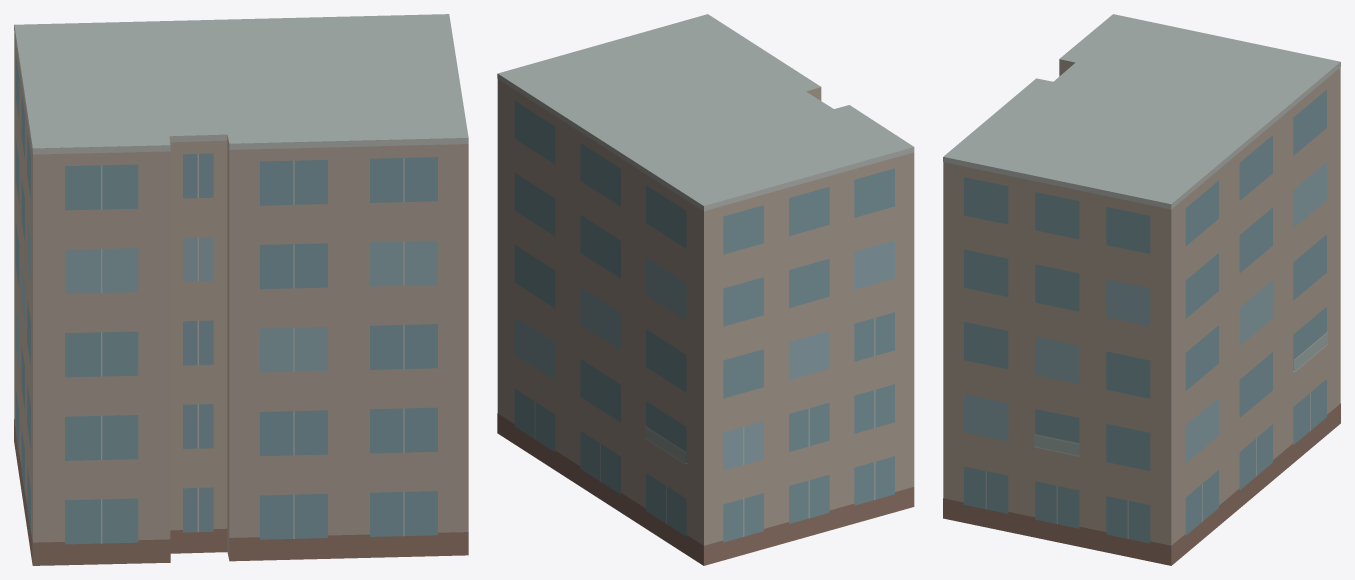
Rendered from survey-upis-33007750.glb.
3 renders of one model, left to right at view 1: azimuth 30°, elevation 25°; view 2: azimuth 150°, elevation 25°; view 3: azimuth 270°, elevation 25°, orthographic. The views are drawn at different scales.
Visible parts, largest first — view 1: survey-upis-33007750.tmp; view 2: survey-upis-33007750.tmp; view 3: survey-upis-33007750.tmp.
Boxes of the visible parts, <box> form: survey-upis-33007750.tmp: <box>14,14,468,565</box>; survey-upis-33007750.tmp: <box>497,14,914,565</box>; survey-upis-33007750.tmp: <box>943,14,1340,565</box>.
Size of the model in its own units: 18.7 by 16.57 by 16.52.
